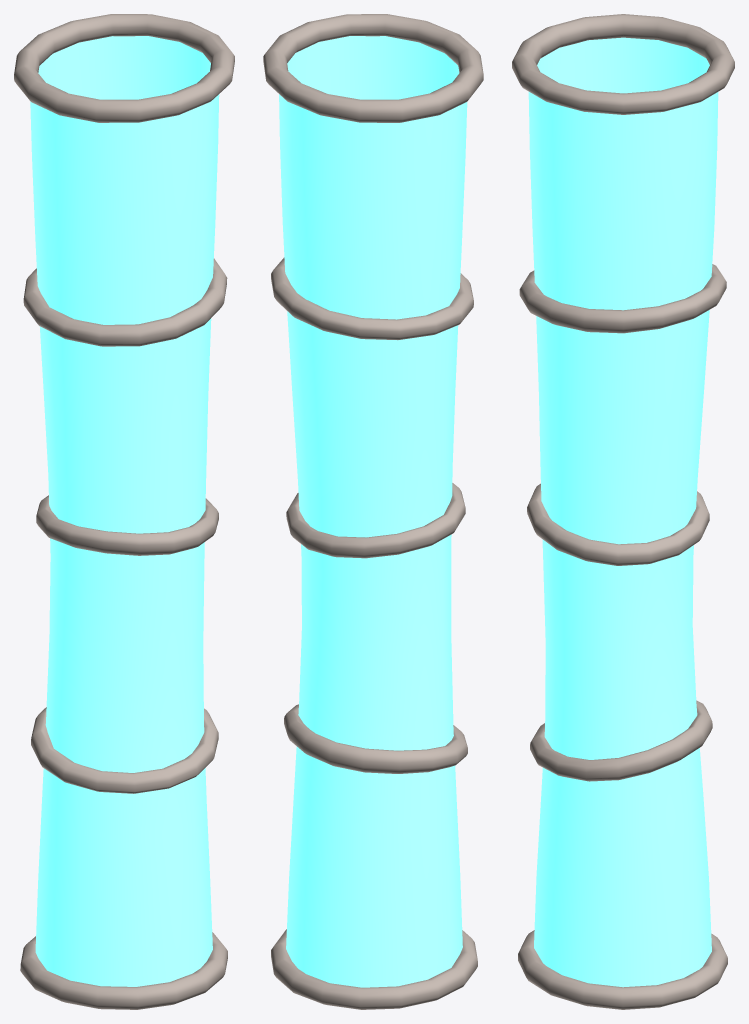
The model's file is SM_Lift_01.fbx.
The picture shows the model from 3 angles, left to right: view 1: azimuth 30°, elevation 25°; view 2: azimuth 150°, elevation 25°; view 3: azimuth 270°, elevation 25°; orthographic projection.
Visible parts, largest first — view 1: SM_Lift_01; view 2: SM_Lift_01; view 3: SM_Lift_01.
Boxes of the visible parts, x1,y1,x2,y2 form: SM_Lift_01: (14,14,234,1009); SM_Lift_01: (263,14,483,1009); SM_Lift_01: (512,14,734,1009).
Bounding box in the file's own units: 1100 × 5000 × 1100.
